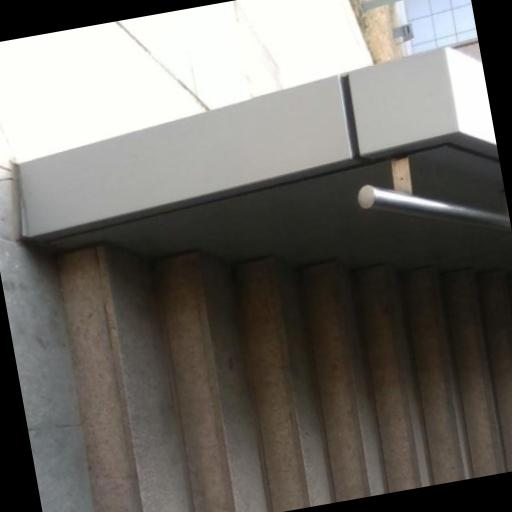stairs: (57, 247, 511, 511)
